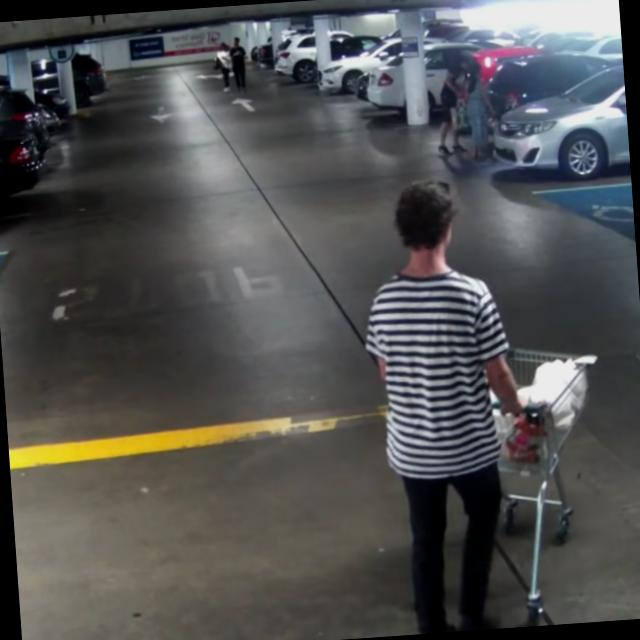person: (352, 173, 540, 636)
